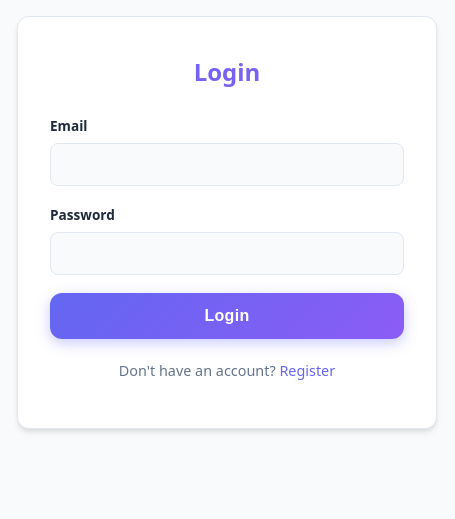
Login › shows error message on failed login
Type "wrong@test.com" into the field labelled "Email" at (227,165), box [50,143,404,186]
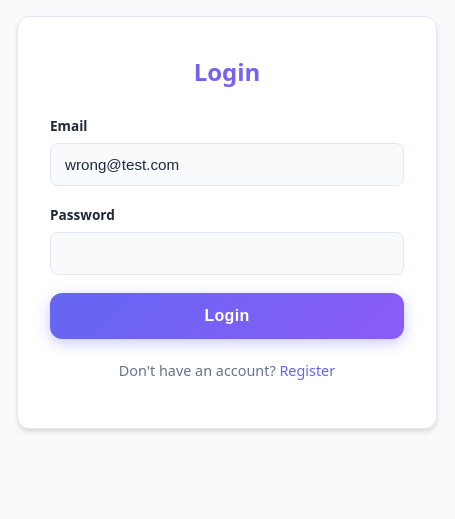
Type "wrong" into the password field labelled "Password" at (227,253), box [50,232,404,275]
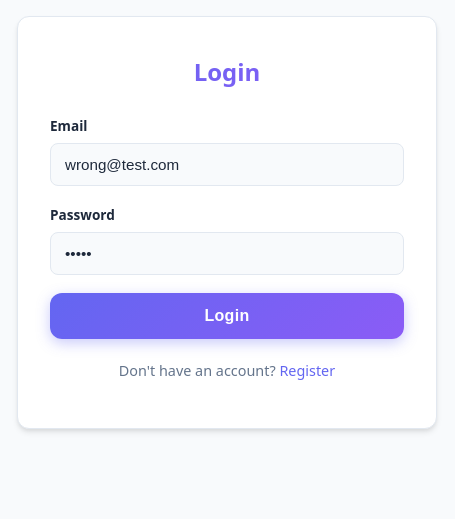
Click the button "Login" at (227,316), box [50,293,404,339]
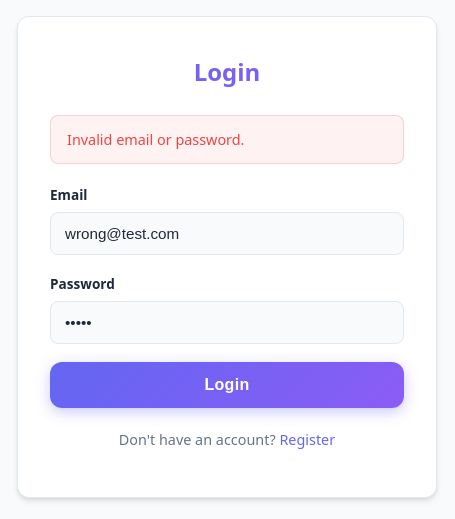
Check: the text "Invalid email or password." is shown, box [50,115,404,164]
